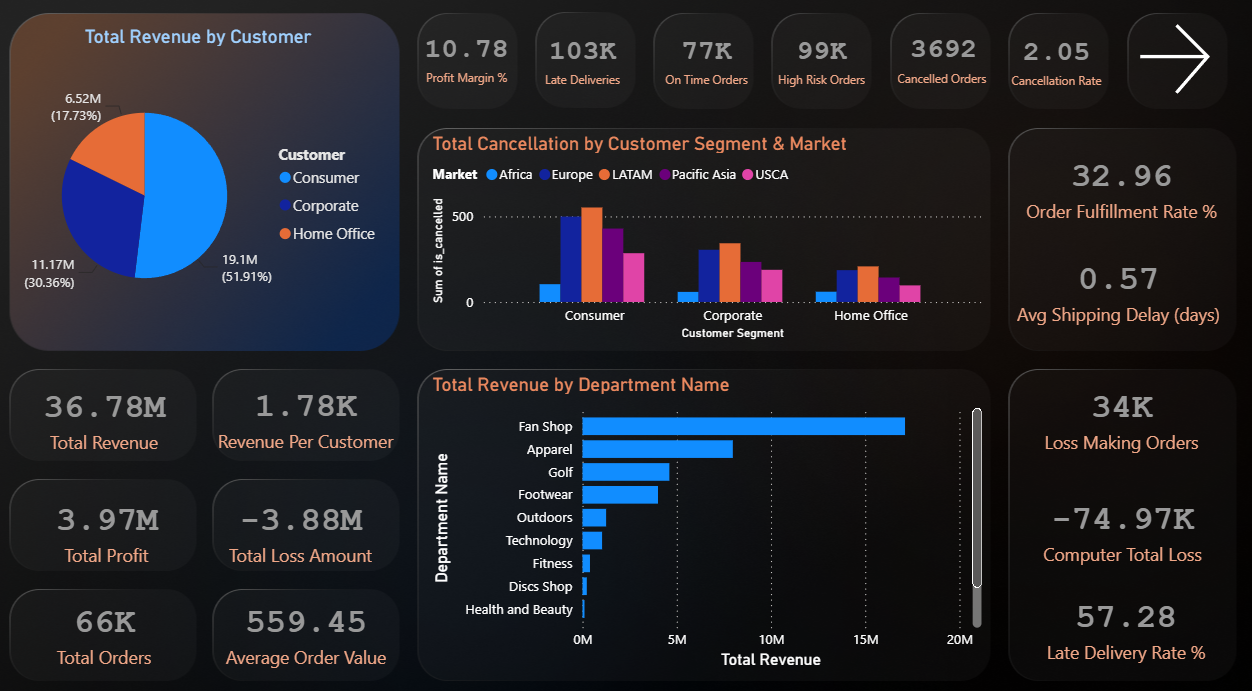

Layout of this report page (visuals, bound fields, positions):
{"tool":"powerbi","page":{"name":"Page 1","canvas":[1280,720],"ordinal":0},"visuals":[{"type":"card","title":"Total revenue","fields":{"Values":["cleaned_dataset.Total Revenue"]},"box":[105.2,384.5,157.8,79.8],"z":0},{"type":"card","title":"Total revenue","fields":{"Values":["cleaned_dataset.Total Profit"]},"box":[94.3,487,184.1,79.8],"z":1000},{"type":"card","title":"Total revenue","fields":{"Values":["cleaned_dataset.Total Orders"]},"box":[105.2,580.4,157.8,78],"z":2000},{"type":"card","title":"Total revenue","fields":{"Values":["cleaned_dataset.Profit Margin %"]},"box":[455.2,58.9,115.2,77.1],"z":3000},{"type":"pieChart","fields":{"Category":["cleaned_dataset.Customer Segment"],"Y":["cleaned_dataset.Total Revenue"]},"box":[94.3,69.8,350,290.2],"z":4000},{"type":"card","title":"Total revenue","fields":{"Values":["cleaned_dataset.Revenue Per Customer"]},"box":[278.4,384.5,176.8,78.9],"z":5000},{"type":"card","title":"Total revenue","fields":{"Values":["cleaned_dataset.Average Order Value"]},"box":[281.1,572.2,172.3,94.3],"z":6000},{"type":"card","title":"Total revenue","fields":{"Values":["cleaned_dataset.Late Delivery Rate %"]},"box":[1001.1,571.3,219.4,87.1],"z":7000},{"type":"card","title":"Total revenue","fields":{"Values":["cleaned_dataset.Cancellation Rate %"]},"box":[1001.1,56.2,93.4,88],"z":8000},{"type":"card","title":"Total revenue","fields":{"Values":["cleaned_dataset.Avg Shipping Delay"]},"box":[1001.1,263.9,205.8,89.8],"z":9000},{"type":"card","title":"Total revenue","fields":{"Values":["cleaned_dataset.Late Deliveries"]},"box":[556.8,54.4,122.4,89.8],"z":10000},{"type":"card","title":"Total revenue","fields":{"Values":["cleaned_dataset.On Time Orders"]},"box":[667.4,54.4,126,89.8],"z":11000},{"type":"card","title":"Total revenue","fields":{"Values":["cleaned_dataset.High Risk Orders"]},"box":[770.8,54.4,127.9,89.8],"z":12000},{"type":"clusteredColumnChart","title":"Total Cancellation by Customer Segment & Market","fields":{"Y":["Sum(cleaned_dataset.is_cancelled)"],"Category":["cleaned_dataset.Customer Segment"],"Series":["cleaned_dataset.Market"]},"box":[477,166.9,507.8,193.1],"z":13000},{"type":"card","title":"Total revenue","fields":{"Values":["cleaned_dataset.Total Loss Amount"]},"box":[278.4,487,167.8,79.8],"z":14000},{"type":"clusteredBarChart","fields":{"Category":["cleaned_dataset.Department Name"],"Y":["cleaned_dataset.Total Revenue"]},"box":[477,385.4,507.8,272.9],"z":15000},{"type":"card","title":"Total revenue","fields":{"Values":["cleaned_dataset.Loss Making Orders"]},"box":[1002,385.4,209.5,78],"z":16000},{"type":"card","title":"Total revenue","fields":{"Values":["cleaned_dataset.Computer Total Loss"]},"box":[1003.8,480.6,207.7,91.6],"z":17000},{"type":"card","title":"Total revenue","fields":{"Values":["cleaned_dataset.Cancelled Orders Count"]},"box":[898.6,61.7,93.4,72.5],"z":18000},{"type":"card","title":"Total revenue","fields":{"Values":["cleaned_dataset.Order Fulfillment Rate"]},"box":[1002,166.9,209.5,97],"z":19000},{"type":"actionButton","box":[1110.8,61.7,96.1,78],"z":20000}]}

Visuals, with their boxes in screenshot pixels (x1, y1, x2, y2), scaled from the page's 1280x720 canvas onto the 1252x691 screenshot:
"Total revenue" card: x1=103, y1=369, x2=257, y2=446
"Total revenue" card: x1=92, y1=467, x2=272, y2=544
"Total revenue" card: x1=103, y1=557, x2=257, y2=632
"Total revenue" card: x1=445, y1=57, x2=558, y2=131
pieChart - cleaned_dataset.Customer Segment x cleaned_dataset.Total Revenue: x1=92, y1=67, x2=435, y2=346
"Total revenue" card: x1=272, y1=369, x2=445, y2=445
"Total revenue" card: x1=275, y1=549, x2=443, y2=640
"Total revenue" card: x1=979, y1=548, x2=1194, y2=632
"Total revenue" card: x1=979, y1=54, x2=1071, y2=138
"Total revenue" card: x1=979, y1=253, x2=1180, y2=339
"Total revenue" card: x1=545, y1=52, x2=664, y2=138
"Total revenue" card: x1=653, y1=52, x2=776, y2=138
"Total revenue" card: x1=754, y1=52, x2=879, y2=138
"Total Cancellation by Customer Segment & Market" clusteredColumnChart: x1=467, y1=160, x2=963, y2=346
"Total revenue" card: x1=272, y1=467, x2=436, y2=544
clusteredBarChart - cleaned_dataset.Department Name x cleaned_dataset.Total Revenue: x1=467, y1=370, x2=963, y2=632
"Total revenue" card: x1=980, y1=370, x2=1185, y2=445
"Total revenue" card: x1=982, y1=461, x2=1185, y2=549
"Total revenue" card: x1=879, y1=59, x2=970, y2=129
"Total revenue" card: x1=980, y1=160, x2=1185, y2=253
actionButton: x1=1087, y1=59, x2=1180, y2=134
